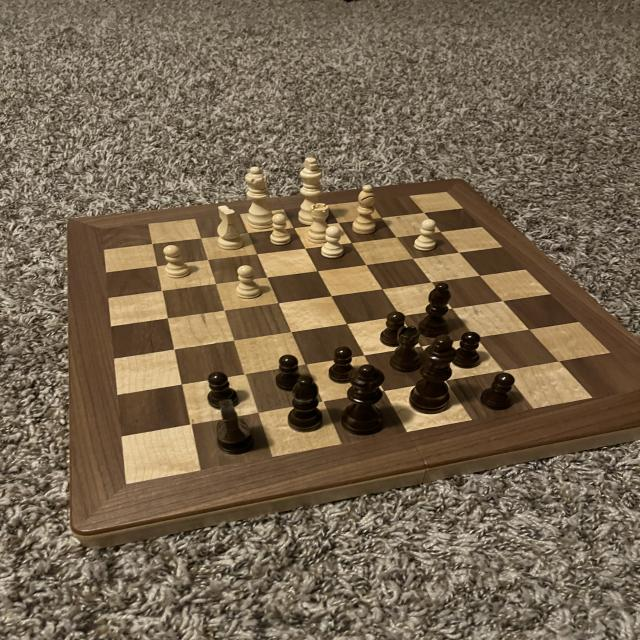bishop: (283, 371, 329, 434), (417, 278, 457, 342)
black-bishop: (406, 334, 463, 420)
black-king: (206, 398, 263, 457)
black-knight: (475, 369, 519, 415), (202, 368, 244, 412), (446, 329, 490, 368), (327, 343, 361, 385), (376, 311, 412, 348), (273, 352, 303, 389)
black-pawn: (335, 362, 393, 438)
black-queen: (387, 321, 428, 378)
black-rook: (348, 180, 386, 240)
white-bishop: (290, 155, 332, 227)
white-king: (210, 204, 245, 253)
white-knight: (159, 241, 194, 280), (235, 263, 264, 305), (266, 210, 297, 249), (411, 217, 441, 254), (320, 222, 348, 261)
white-pawn: (238, 164, 284, 235)
white-queen: (302, 202, 334, 246)
